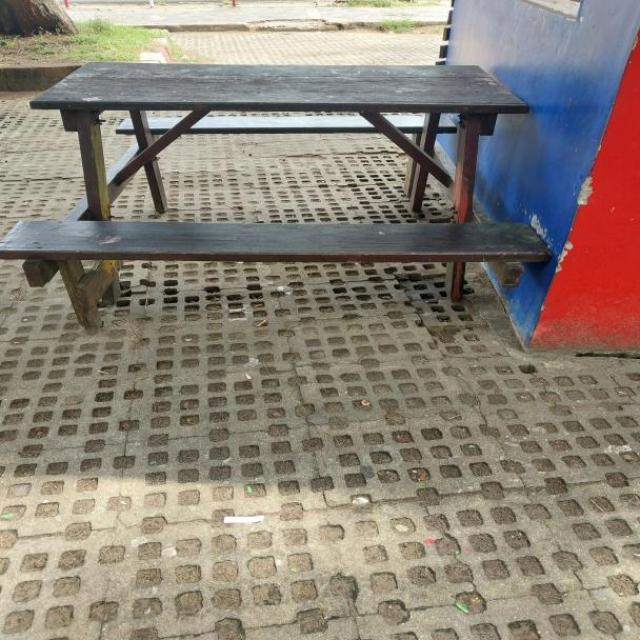Table ahead at: (34, 50, 533, 209)
